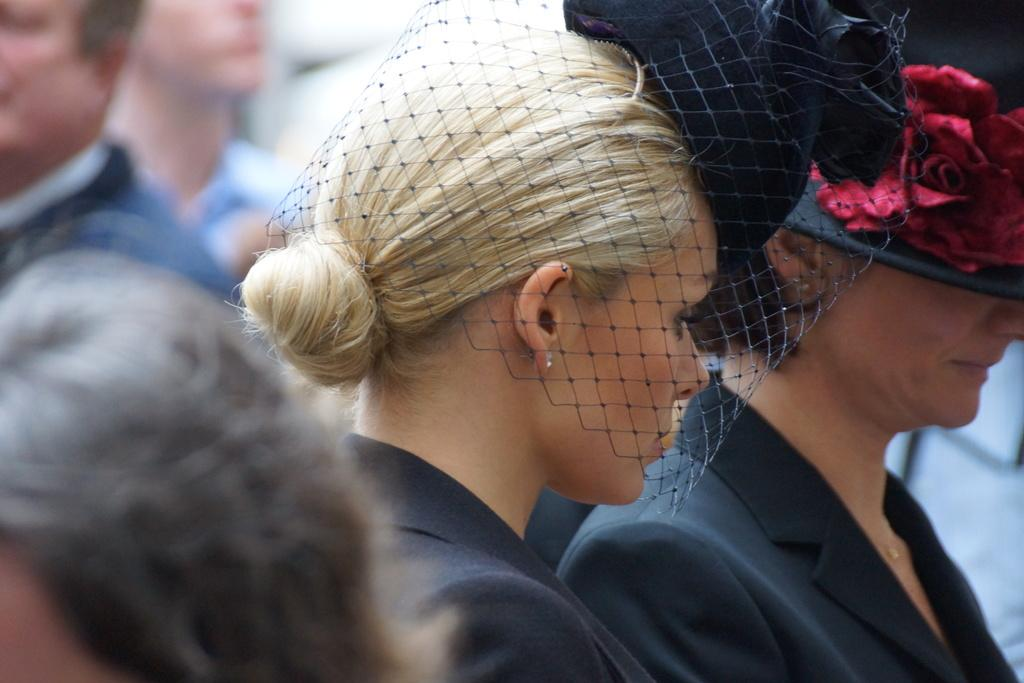Hat: (786, 2, 1024, 295)
